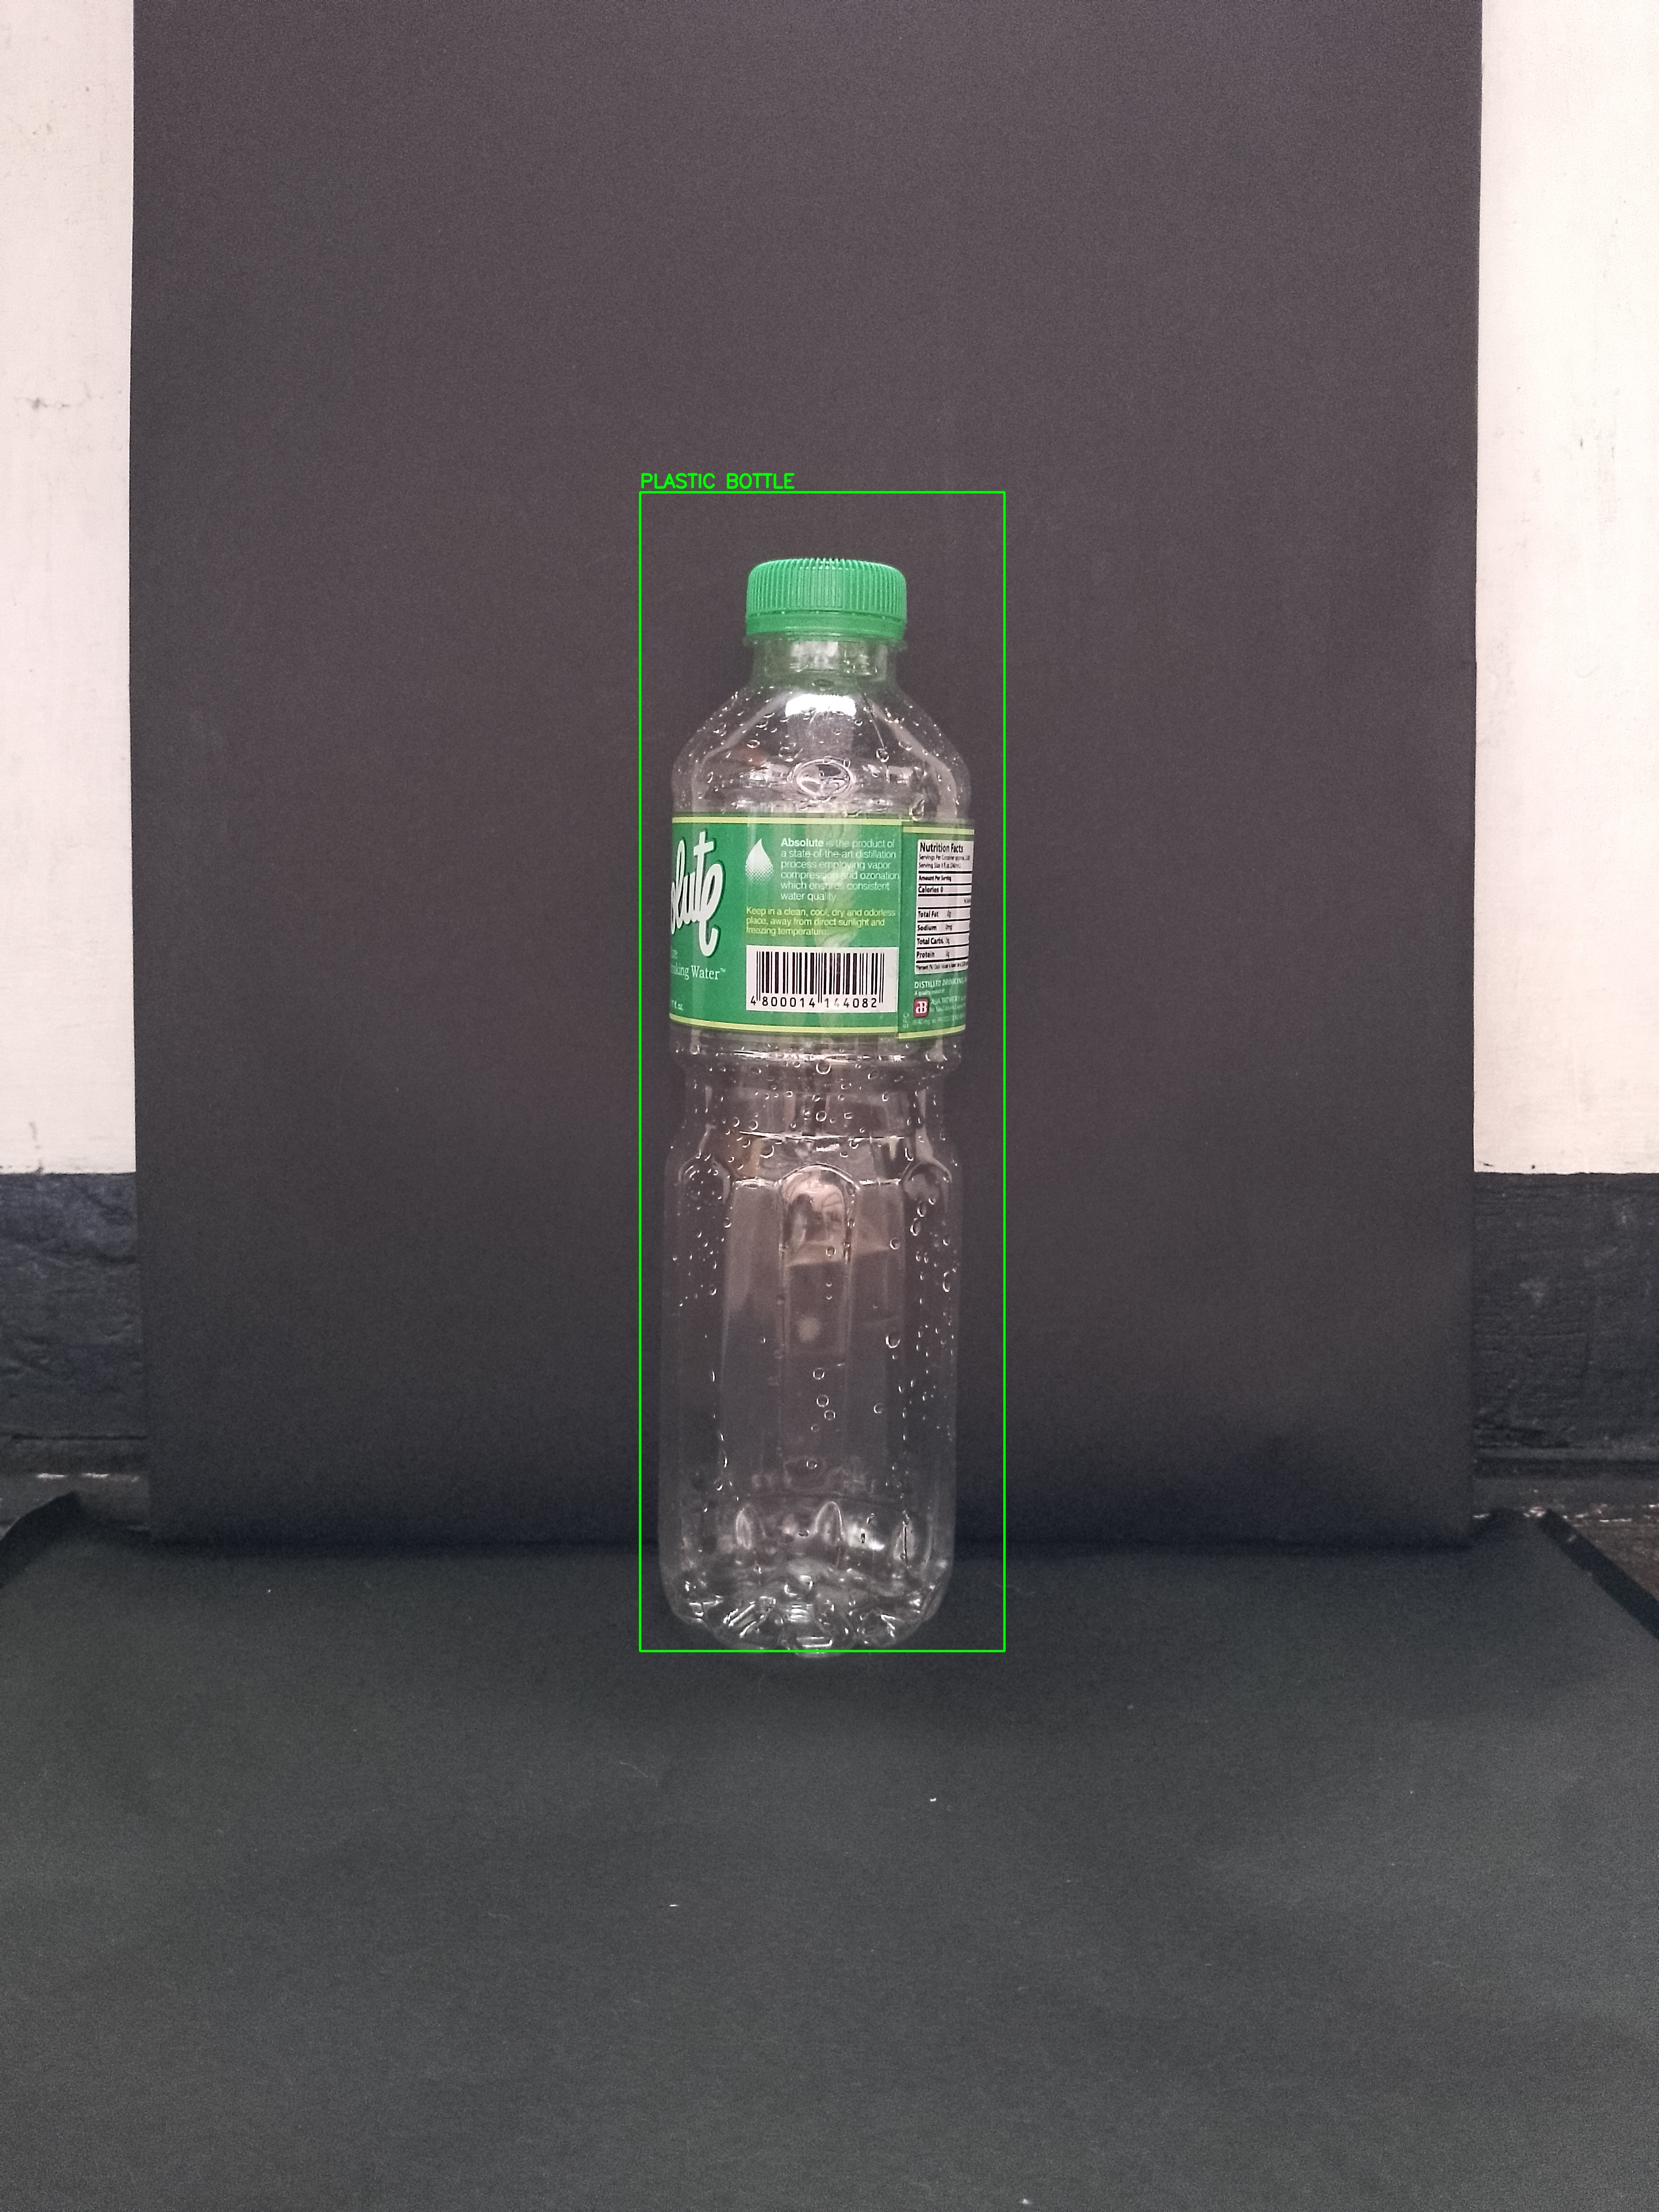plastic bottle: (659, 545, 981, 1667)
